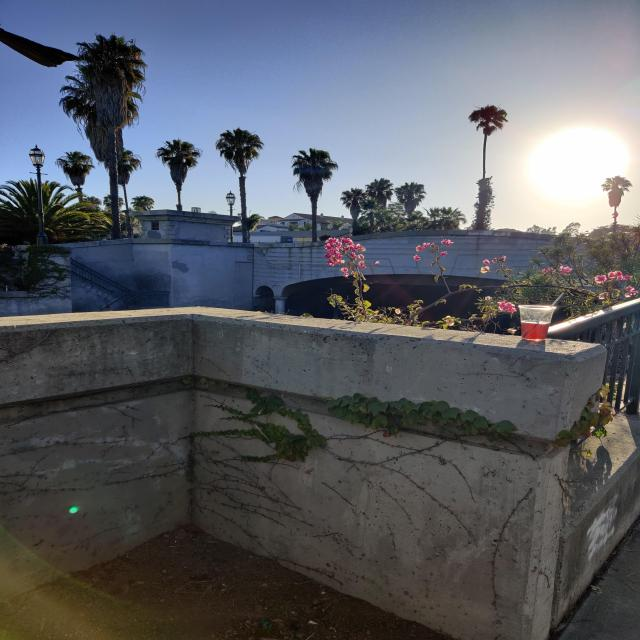litter: (519, 293, 562, 340)
